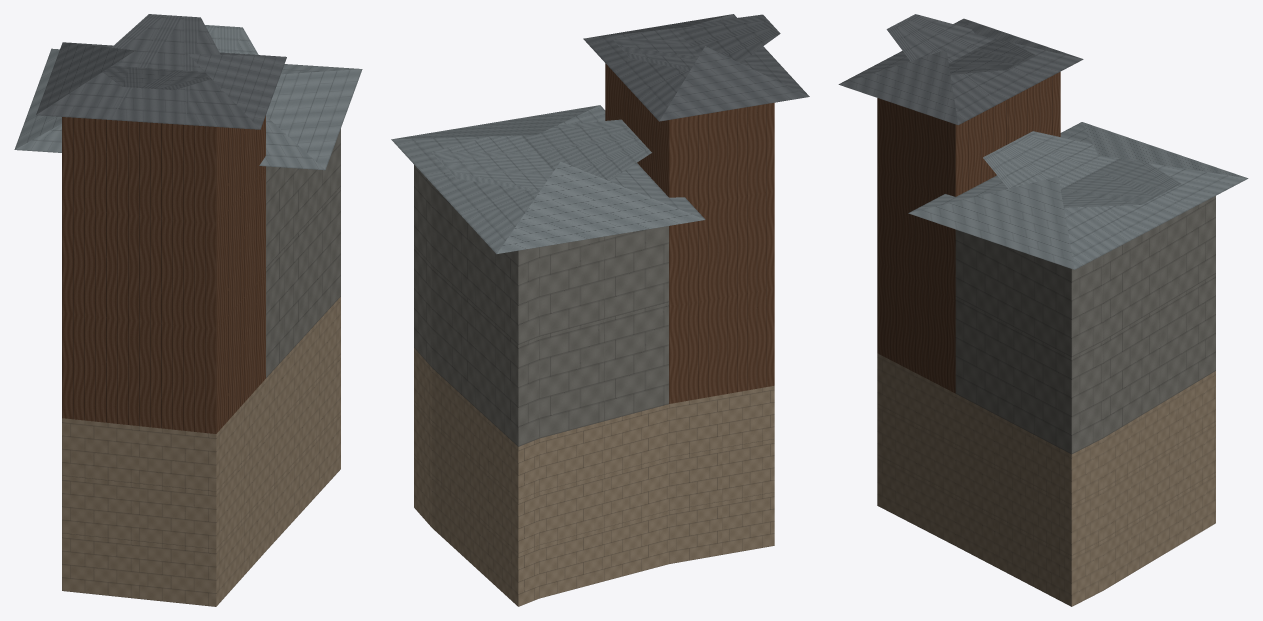
File: bld_c32_-41_444.gltf
The picture shows the model from 3 angles, left to right: view 1: azimuth 30°, elevation 25°; view 2: azimuth 150°, elevation 25°; view 3: azimuth 270°, elevation 25°; orthographic projection. The views are drawn at different scales.
Parts seen in each view (by area): view 1: bld_c32_-41_444; view 2: bld_c32_-41_444; view 3: bld_c32_-41_444.
Part boxes in pixels (x1,y1,x2,y2): bld_c32_-41_444: [14, 14, 362, 606]; bld_c32_-41_444: [391, 14, 809, 606]; bld_c32_-41_444: [838, 14, 1248, 606].
Bounding box in the file's own units: 12.03 × 15.4 × 12.44.
5 materials, 5 textured.
